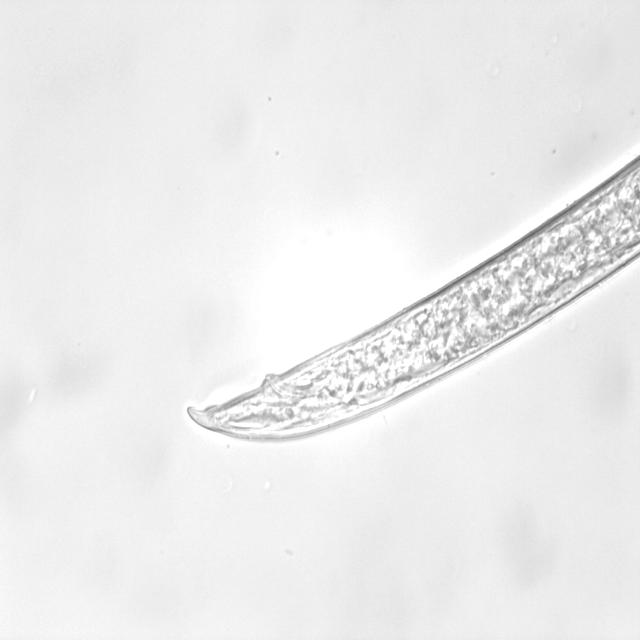Pratylenchus: (168, 130, 640, 476)
